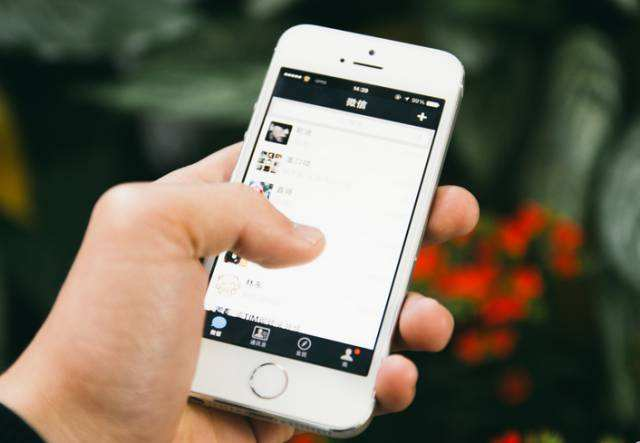phone: (201, 42, 467, 423)
